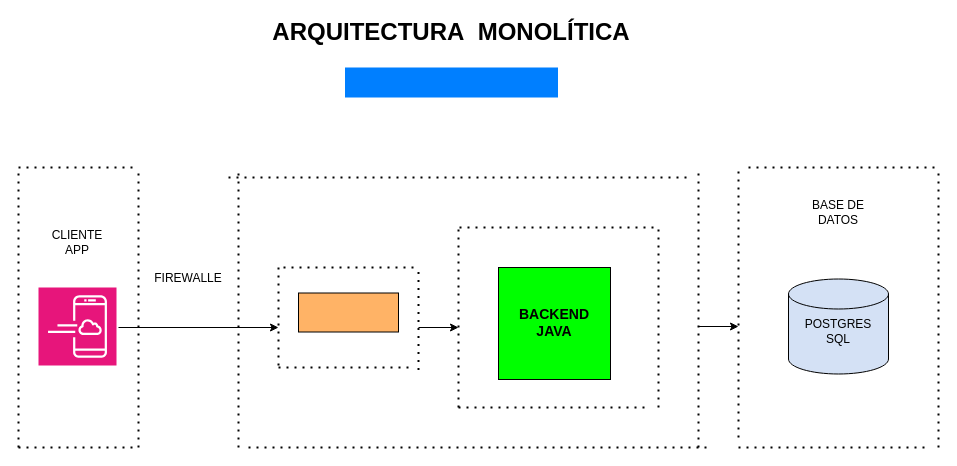
Some shapes in this 957 by 466 pixel diagram are drawn without their labels. The centre of each missing label's shape, as x and y in pixels:
"API" belongs at pixel 348 312.
"RUBY TRANSPOPRT" belongs at pixel 451 82.
